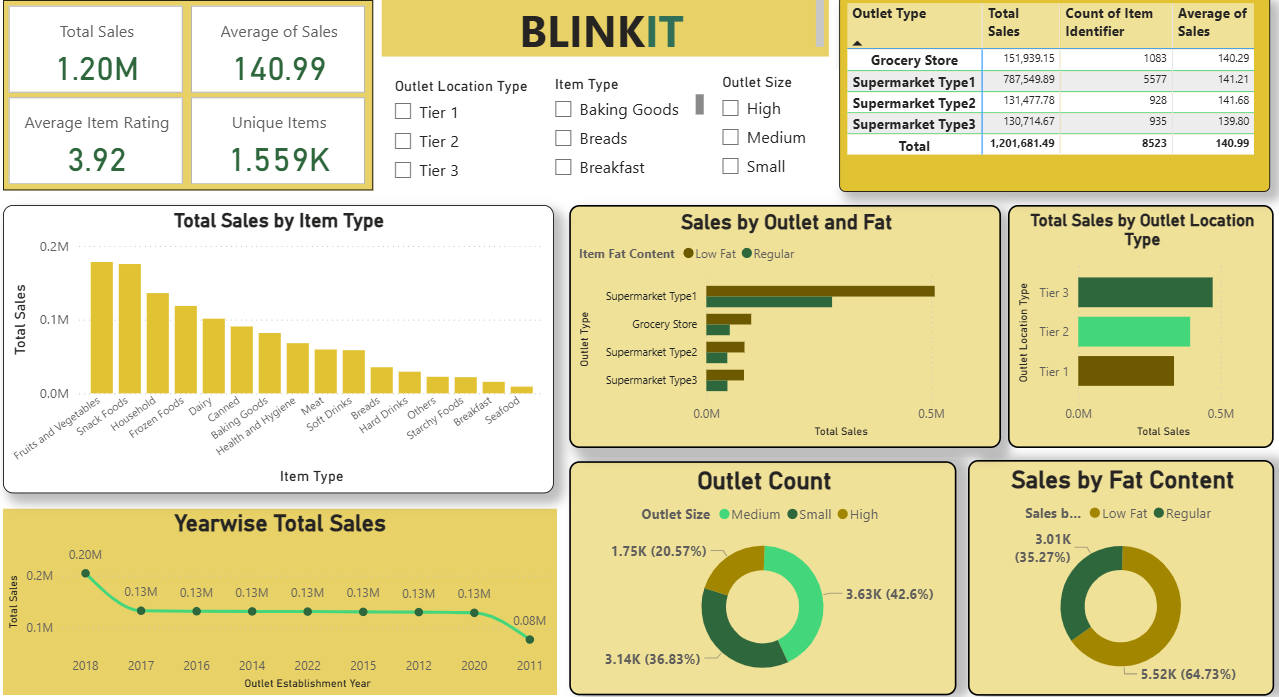

What the dashboard file says about the page in this screenshot:
{"tool":"powerbi","page":{"name":"Page 1","canvas":[1280,720],"ordinal":0},"visuals":[{"type":"textbox","box":[43.8,0,211.3,141.7],"z":0},{"type":"textbox","box":[388.9,9.8,441.4,61.1],"z":1000},{"type":"cardVisual","fields":{"Data":["BlinkIT Grocery Data.Total Sales","Avg(BlinkIT Grocery Data.Sales)","Avg(BlinkIT Grocery Data.Rating)","CountNonNull(BlinkIT Grocery Data.Sales)"]},"box":[14.7,14.7,365.6,188.3],"z":2000},{"type":"lineChart","title":"Yearwise Total Sales","fields":{"Category":["BlinkIT Grocery Data.Outlet Establishment Year"],"Y":["BlinkIT Grocery Data.Total Sales"]},"box":[15,517.5,547.5,183.8],"z":3000},{"type":"donutChart","title":"Outlet Count","fields":{"Category":["BlinkIT Grocery Data.Outlet Size"],"Y":["CountNonNull(BlinkIT Grocery Data.Outlet Identifier)"]},"box":[573.8,470,382.5,231.2],"z":4000},{"type":"donutChart","title":"Sales by Fat Content","fields":{"Category":["BlinkIT Grocery Data.Item Fat Content"],"Y":["CountNonNull(BlinkIT Grocery Data.Item Identifier)"]},"box":[967.5,468.8,302.5,232.5],"z":5000},{"type":"clusteredBarChart","title":"Sales by Outlet and Fat","fields":{"Series":["BlinkIT Grocery Data.Item Fat Content"],"Category":["BlinkIT Grocery Data.Outlet Type"],"Y":["BlinkIT Grocery Data.Total Sales"]},"box":[573.8,217.5,426.2,240],"z":6000},{"type":"clusteredColumnChart","fields":{"Category":["BlinkIT Grocery Data.Item Type"],"Y":["BlinkIT Grocery Data.Total Sales"]},"box":[15,217.5,543.8,285],"z":7000},{"type":"funnel","fields":{"Category":["BlinkIT Grocery Data.Outlet Location Type"],"Y":["BlinkIT Grocery Data.Total Sales"]},"box":[1007.5,217.5,262.5,240],"z":8000},{"type":"pivotTable","fields":{"Rows":["BlinkIT Grocery Data.Outlet Type"],"Values":["BlinkIT Grocery Data.Total Sales","CountNonNull(BlinkIT Grocery Data.Item Identifier)","Avg(BlinkIT Grocery Data.Sales)"]},"box":[841.3,9.8,425.5,194.4],"z":9000},{"type":"slicer","fields":{"Values":["BlinkIT Grocery Data.Outlet Location Type"]},"box":[388.9,86.8,198.1,117.4],"z":10000},{"type":"slicer","fields":{"Values":["BlinkIT Grocery Data.Item Type"]},"box":[546.6,84.4,165.1,116.2],"z":11000},{"type":"slicer","fields":{"Values":["BlinkIT Grocery Data.Outlet Size"]},"box":[712.9,83.2,128.4,117.4],"z":12000}]}

Visuals, with their boxes in screenshot pixels (x1, y1, x2, y2):
textbox: box(57, 0, 265, 137)
textbox: box(398, 6, 834, 67)
cardVisual - BlinkIT Grocery Data.Total Sales x Avg(BlinkIT Grocery Data.Sales): box(28, 11, 389, 197)
"Yearwise Total Sales" lineChart: box(28, 508, 569, 690)
"Outlet Count" donutChart: box(581, 461, 959, 690)
"Sales by Fat Content" donutChart: box(970, 460, 1269, 690)
"Sales by Outlet and Fat" clusteredBarChart: box(581, 212, 1002, 449)
clusteredColumnChart - BlinkIT Grocery Data.Item Type x BlinkIT Grocery Data.Total Sales: box(28, 212, 566, 493)
funnel - BlinkIT Grocery Data.Outlet Location Type x BlinkIT Grocery Data.Total Sales: box(1009, 212, 1269, 449)
pivotTable - BlinkIT Grocery Data.Outlet Type x BlinkIT Grocery Data.Total Sales: box(845, 6, 1266, 199)
slicer - BlinkIT Grocery Data.Outlet Location Type: box(398, 82, 594, 199)
slicer - BlinkIT Grocery Data.Item Type: box(554, 80, 717, 195)
slicer - BlinkIT Grocery Data.Outlet Size: box(718, 79, 845, 195)
